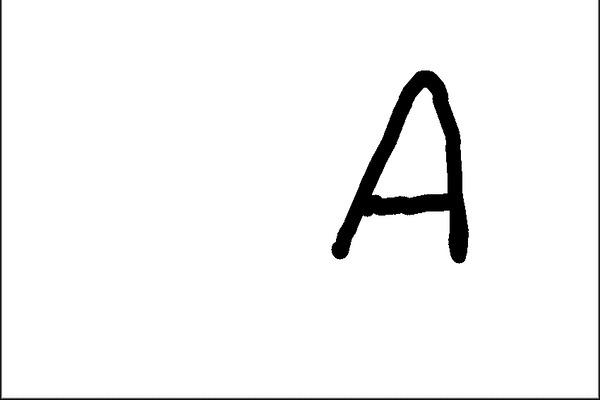A: (313, 63, 479, 271)
